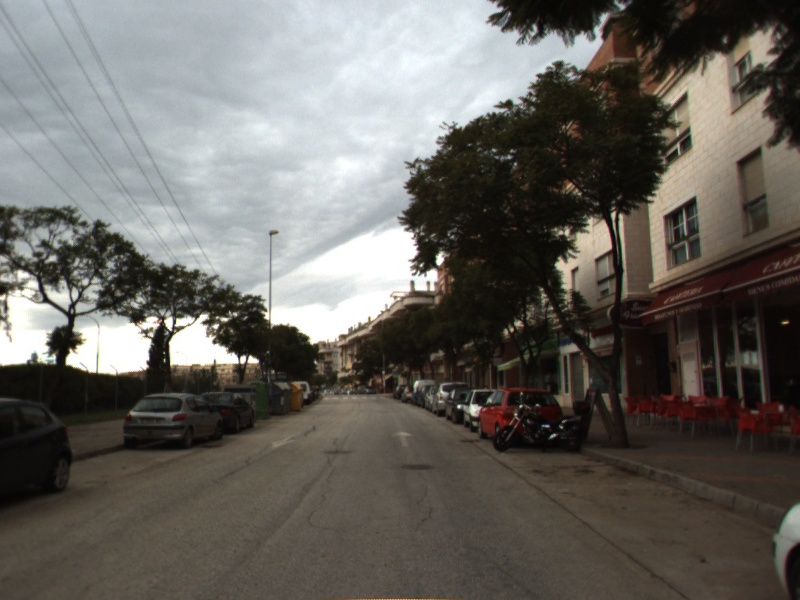STRAIGHT: (389, 429, 417, 448)
